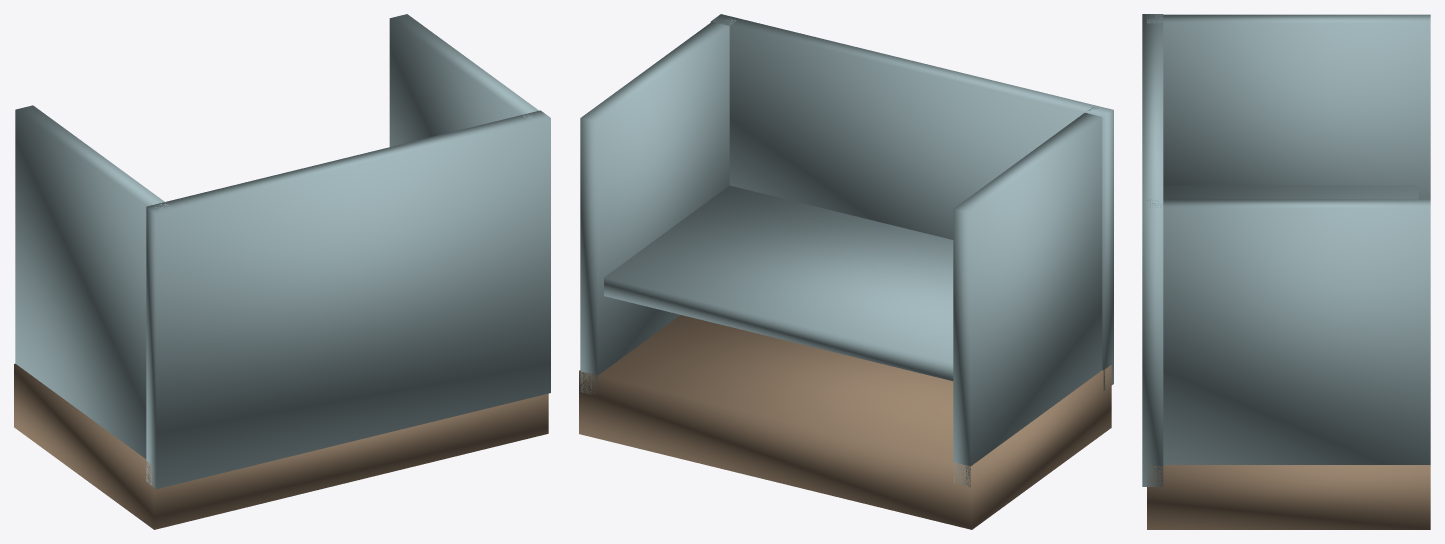
The model's file is pastry_case.glb.
The picture shows the model from 3 angles, left to right: view 1: azimuth 30°, elevation 25°; view 2: azimuth 150°, elevation 25°; view 3: azimuth 270°, elevation 25°; orthographic projection.
Visible parts, largest first — view 1: world; view 2: world; view 3: world.
Part boxes in pixels (x1=…): world: x1=14, y1=14, x2=550, y2=529; world: x1=579, y1=14, x2=1113, y2=529; world: x1=1142, y1=14, x2=1430, y2=529.
Size of the model in its own units: 0.78 by 0.6 by 0.4875.
